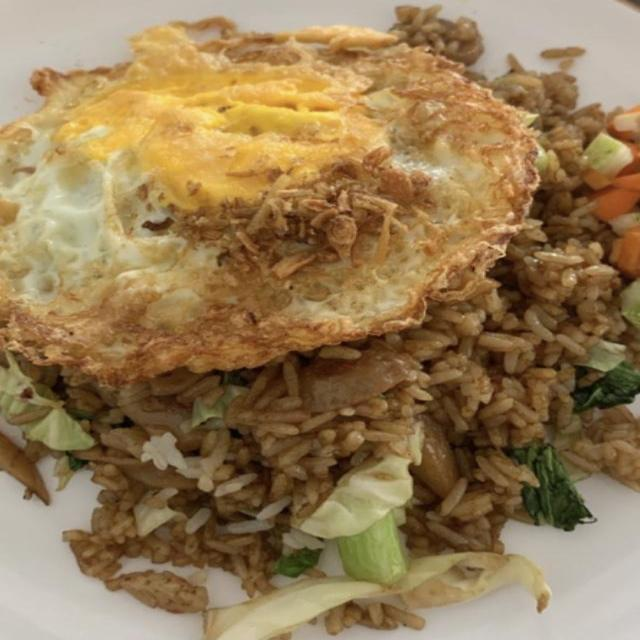Nasi Goreng: (78, 62, 614, 608)
